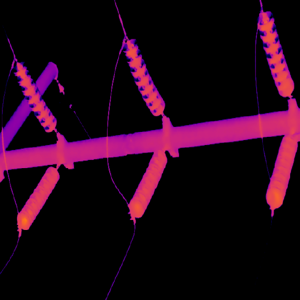insulator: (255, 11, 295, 97), (122, 38, 165, 116), (13, 60, 56, 133), (124, 146, 167, 218), (15, 165, 59, 230), (264, 133, 298, 210)
